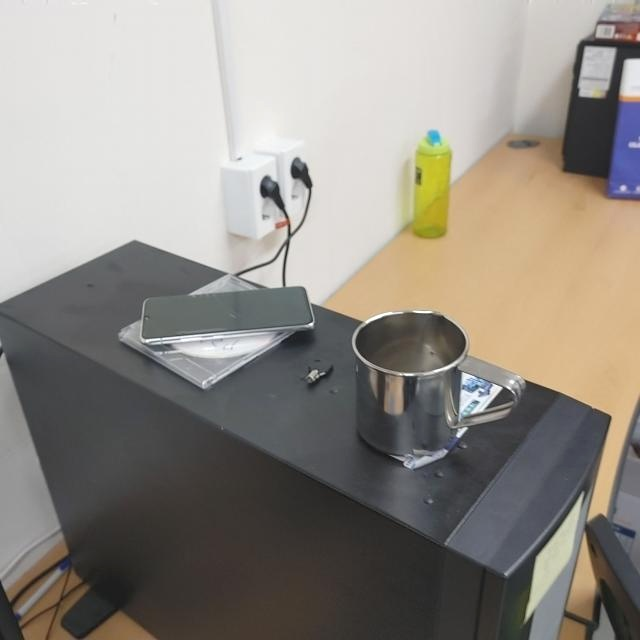cup: (351, 308, 528, 461)
phone: (138, 283, 317, 349)
